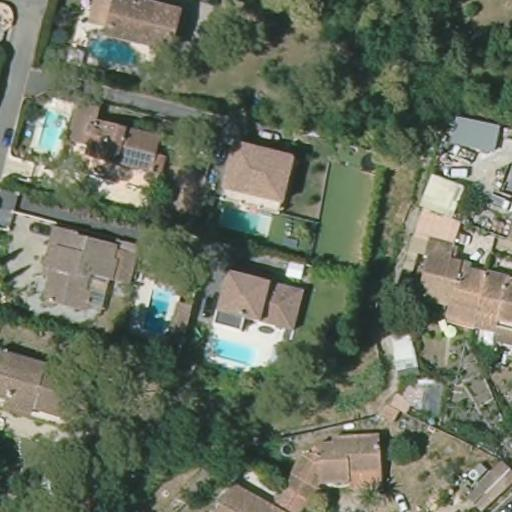pool: (81, 31, 146, 71), (33, 107, 68, 161), (147, 278, 183, 330), (212, 197, 261, 235), (210, 333, 263, 365)
